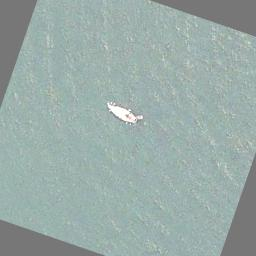boat: (103, 100, 140, 126)
